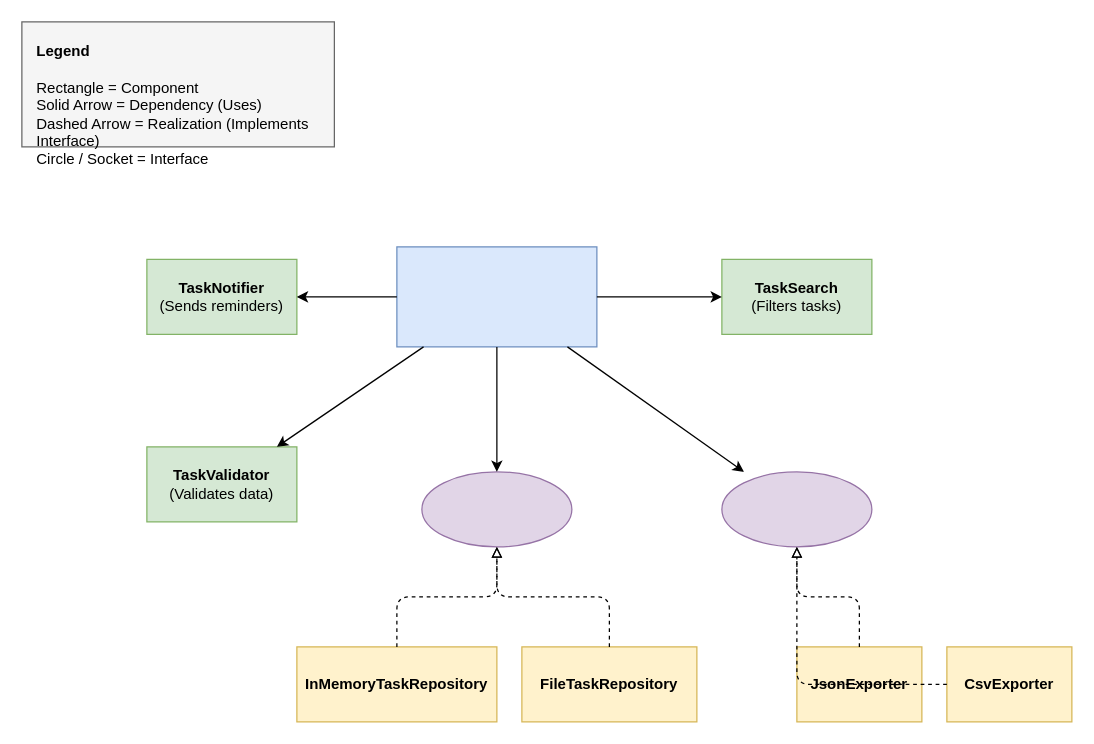
This 1094x744 diagram has some shape labels left out. Here are the shapes that lost their labels. From the top down, the centre of each, then its label:
At point (496, 296): "TaskManager (Orchestrator)".
At point (496, 509): "«interface» ITaskStorage".
At point (796, 509): "«interface» ITaskExporter".
